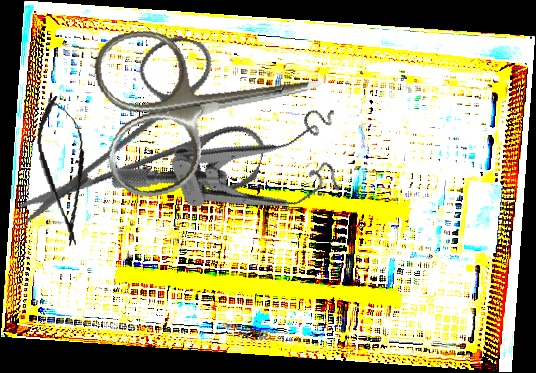Iris Scissors: (15, 6, 289, 280), (88, 3, 337, 203)
Micro Scissor: (32, 93, 96, 249)
Speculum: (106, 88, 364, 266)
